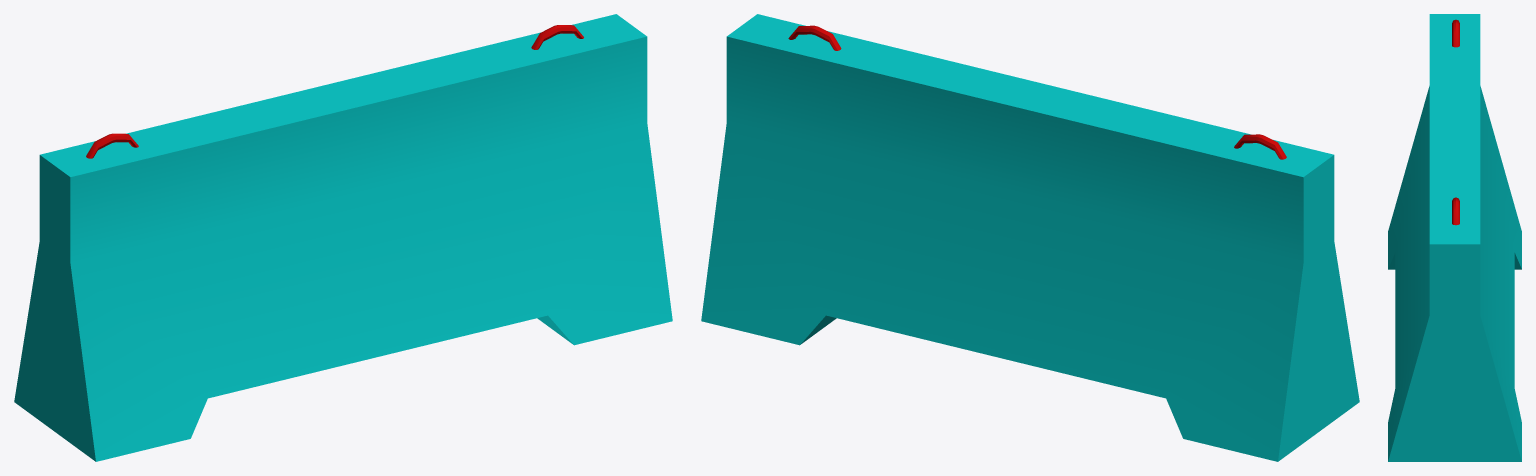
The model's file is block.dae.
3 views of the same model, side by side, from view 1: azimuth 30°, elevation 25°; view 2: azimuth 150°, elevation 25°; view 3: azimuth 270°, elevation 25° (orthographic). The views are drawn at different scales.
Parts seen in each view (by area): view 1: block; view 2: block; view 3: block.
Part boxes in pixels (x1,y1,x2,y2): block: (14,14,672,461); block: (701,14,1359,461); block: (1388,14,1521,461).
Bounding box in the file's own units: 4.16 × 1.95 × 1.02.
